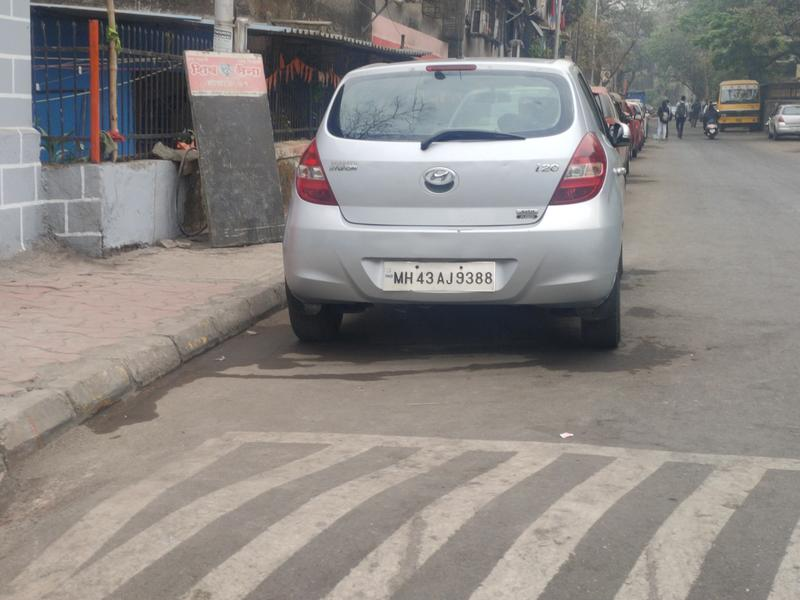license_plate: (379, 254, 500, 300)
